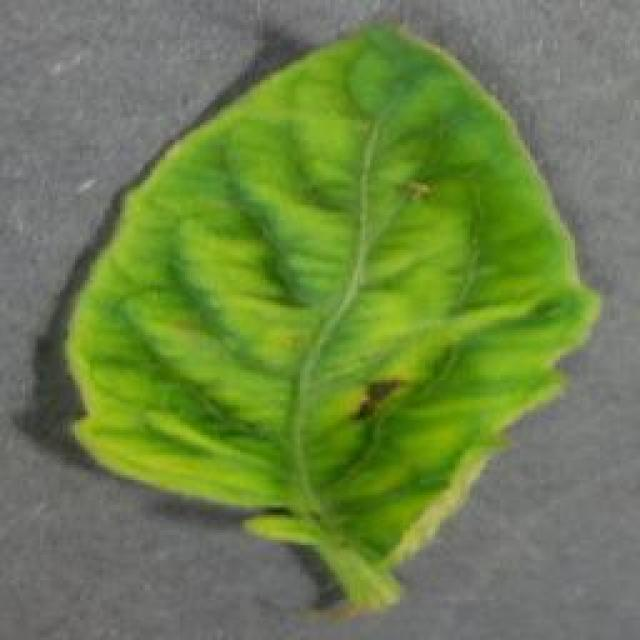Tomato yellow virus leaf: (58, 24, 605, 564)
